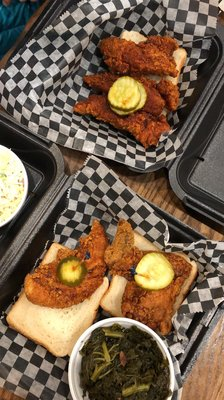sushi: (68, 316, 180, 400)
